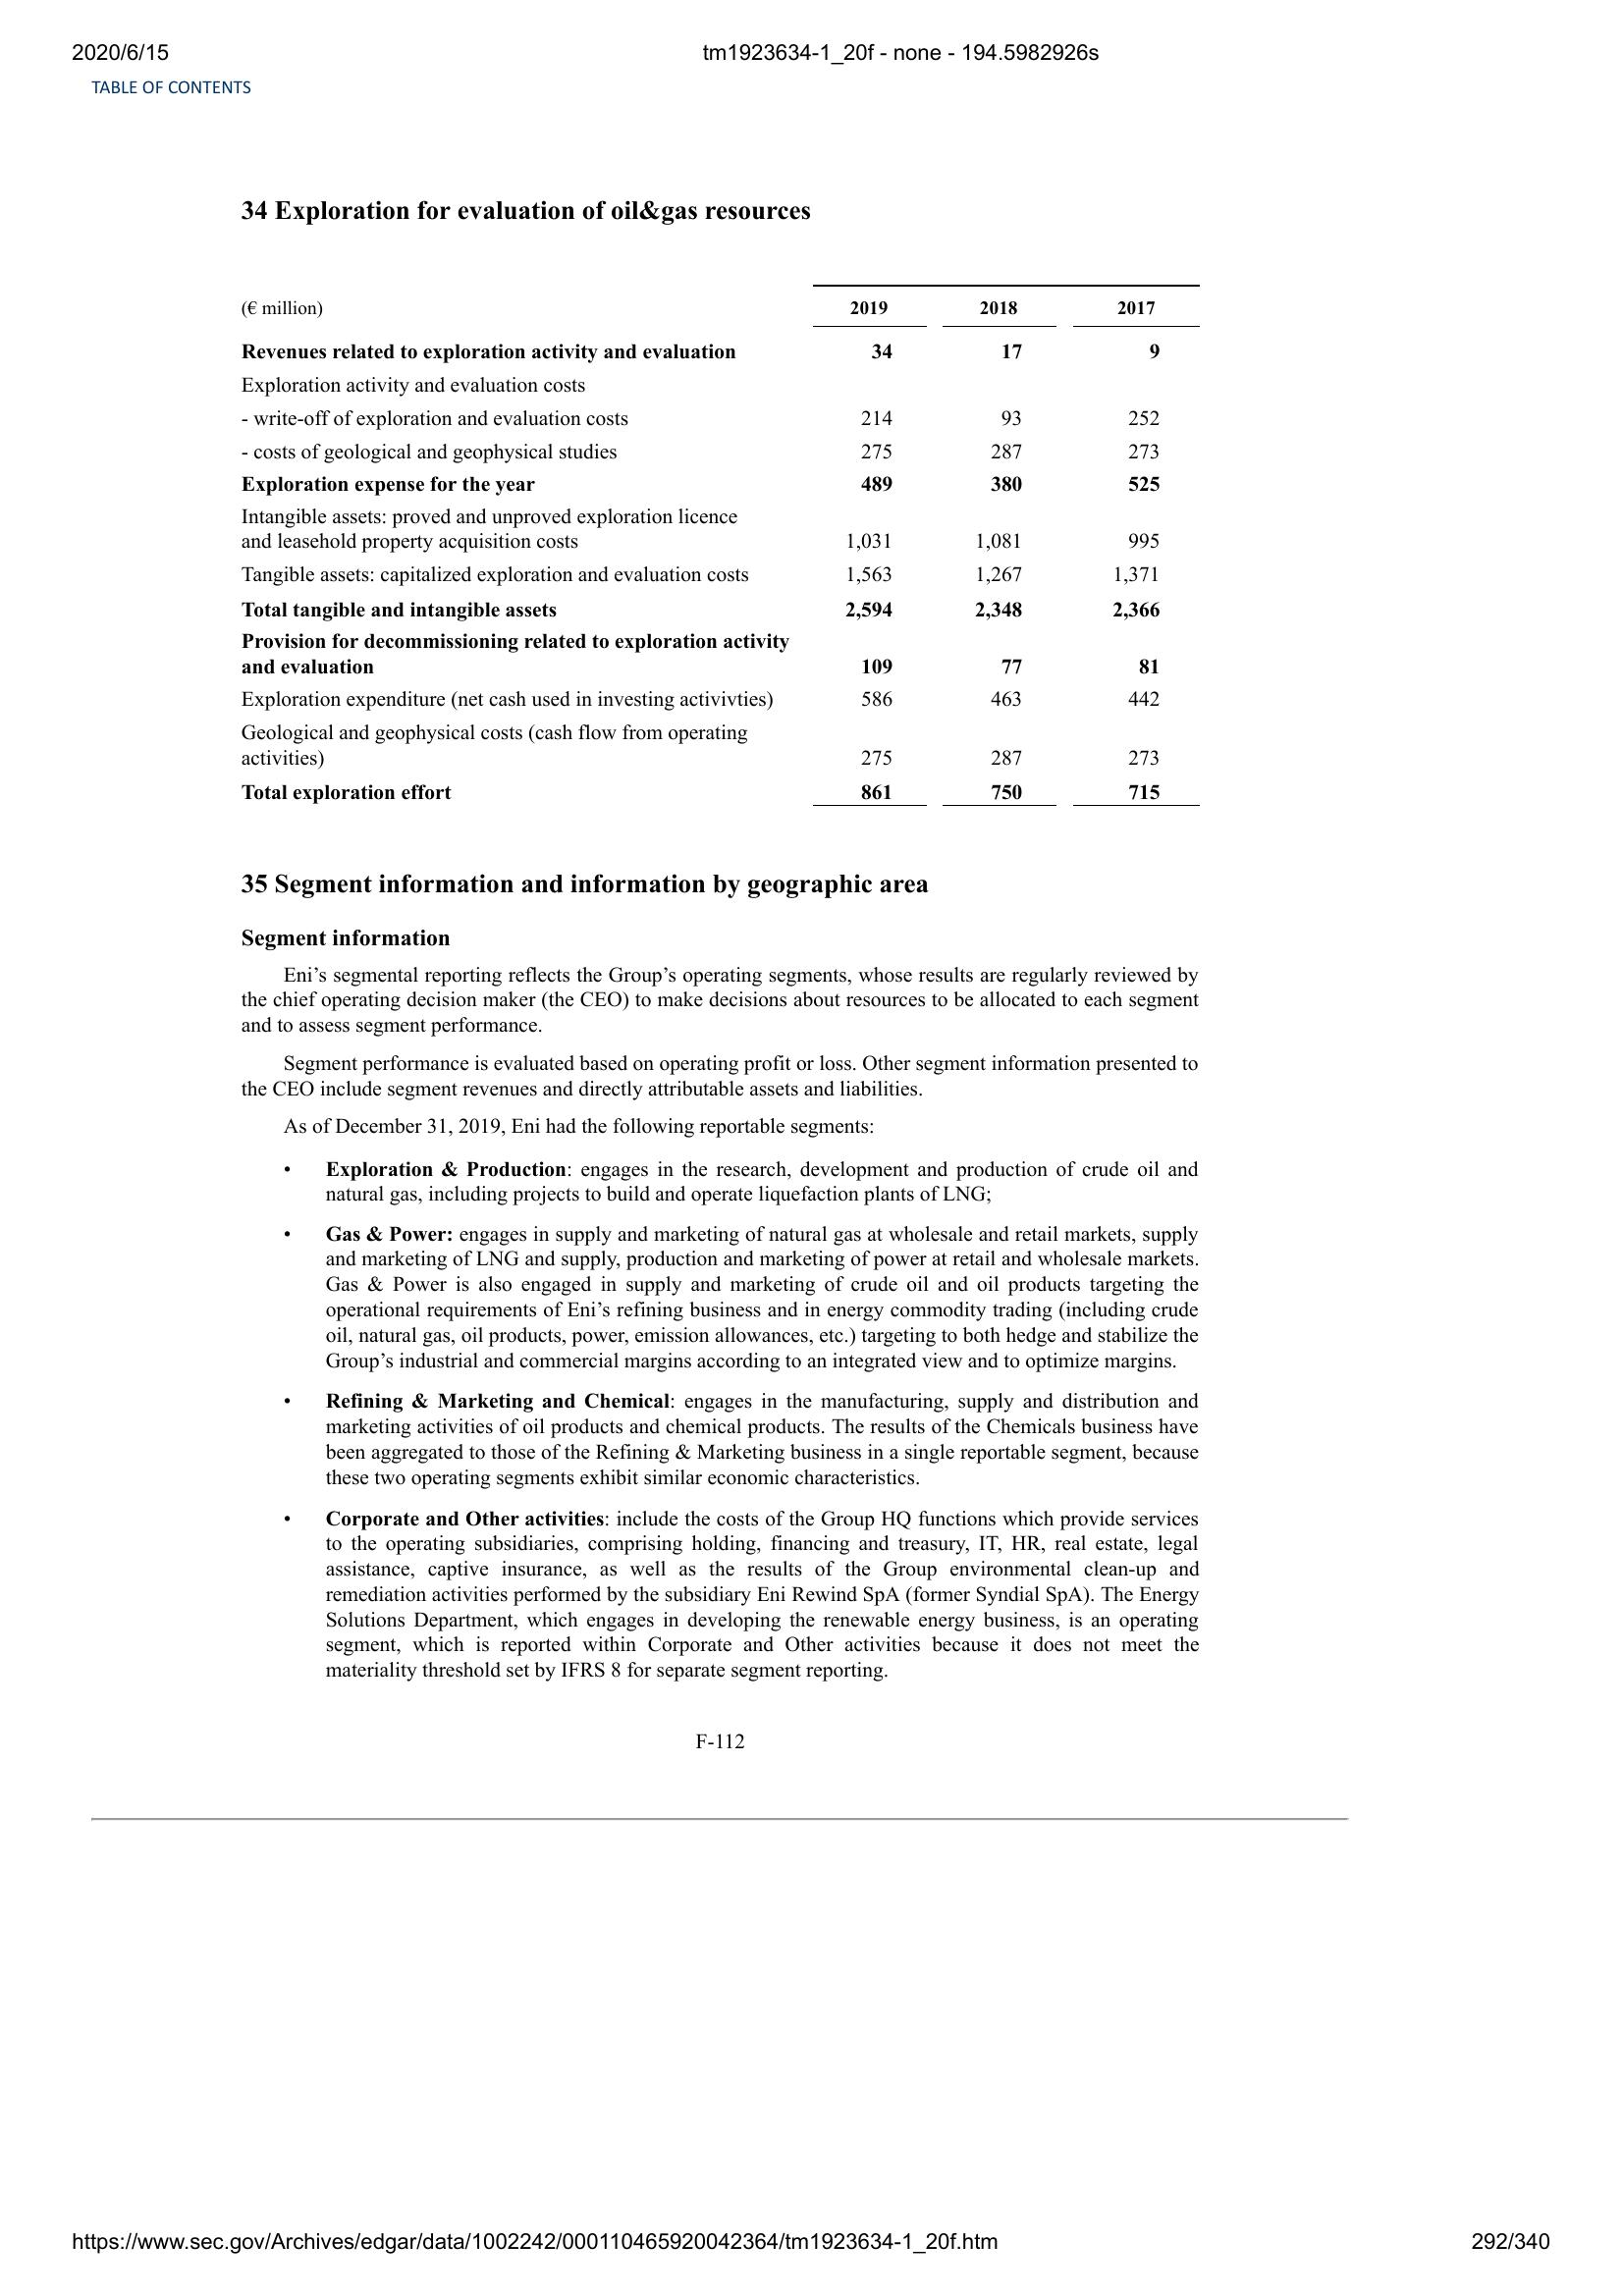table: (235, 277, 1203, 814)
